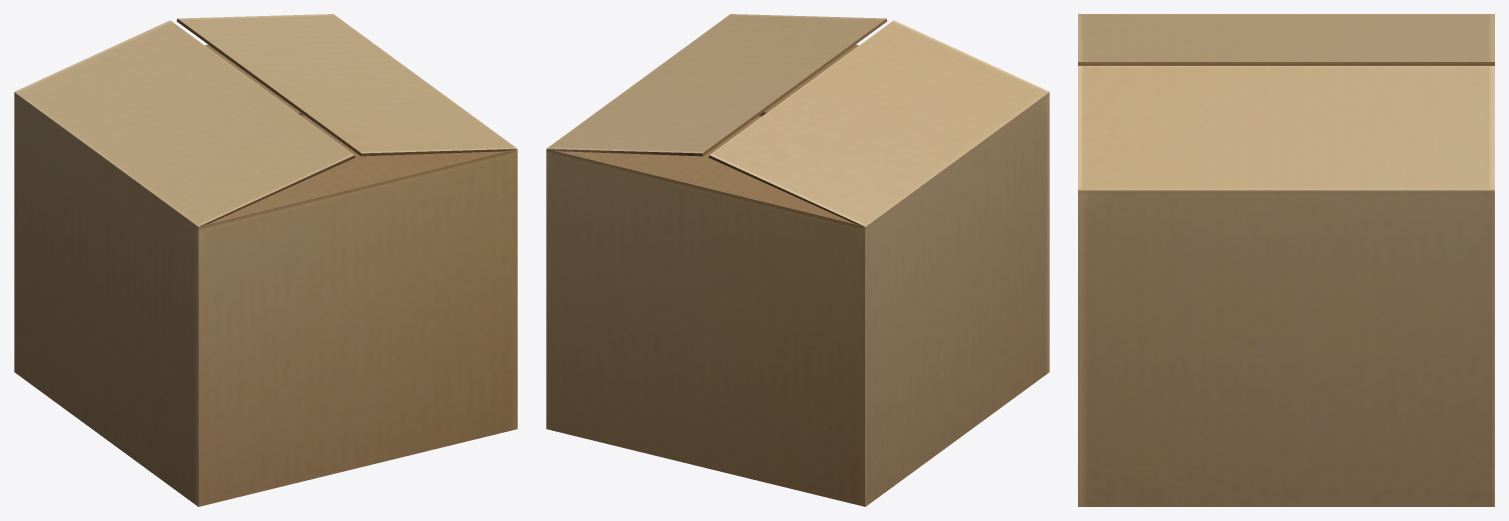
Rendered from BianLiDian_01_zhixiang_01.FBX.
3 renders of one model, left to right at view 1: azimuth 30°, elevation 25°; view 2: azimuth 150°, elevation 25°; view 3: azimuth 270°, elevation 25°, orthographic. The views are drawn at different scales.
Visible parts, largest first — view 1: BianLiDian_01_zhixiang_01; view 2: BianLiDian_01_zhixiang_01; view 3: BianLiDian_01_zhixiang_01.
Boxes of the visible parts, left/top/right/bottom form: BianLiDian_01_zhixiang_01: left=14, top=14, right=517, bottom=506; BianLiDian_01_zhixiang_01: left=546, top=14, right=1049, bottom=506; BianLiDian_01_zhixiang_01: left=1078, top=14, right=1494, bottom=506.
Bounding box in the file's own units: 213 × 200 × 213.
